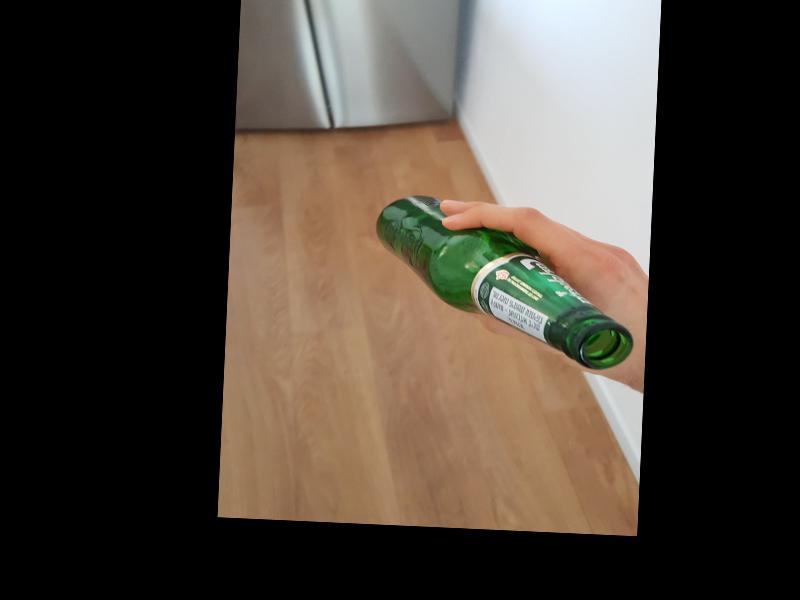Beer: (370, 194, 640, 372)
